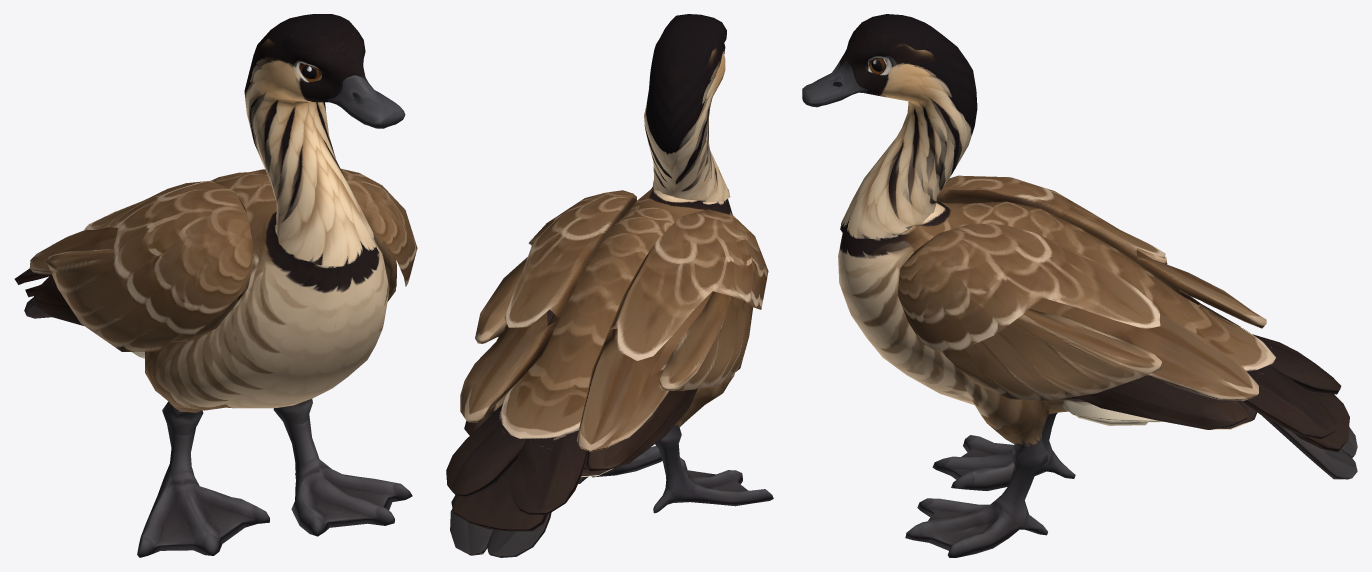
Rendered from nene.glb.
3 views of the same model, side by side, from view 1: azimuth 30°, elevation 25°; view 2: azimuth 150°, elevation 25°; view 3: azimuth 270°, elevation 25° (orthographic). The views are drawn at different scales.
Size of the model in its own units: 0.5293 by 0.9688 by 1.
Materials: 1 (1 with a texture image).
